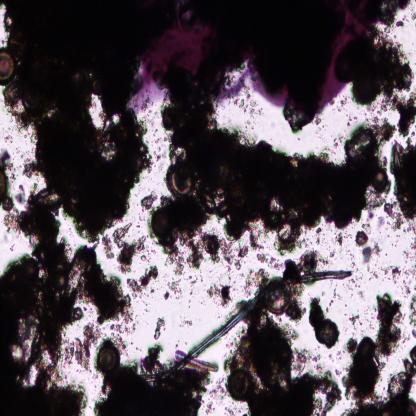Background material: (0, 0, 152, 237), (146, 120, 396, 264), (0, 190, 84, 416), (227, 316, 341, 416), (94, 348, 211, 415), (69, 249, 136, 328), (343, 347, 416, 414), (349, 33, 414, 107), (183, 231, 250, 272), (345, 338, 381, 403), (104, 224, 148, 274), (391, 137, 416, 224), (373, 292, 404, 358), (0, 143, 25, 221), (308, 296, 342, 350), (73, 322, 101, 373), (402, 234, 416, 323), (390, 92, 416, 138), (127, 261, 159, 298), (377, 0, 414, 30), (234, 87, 264, 124), (281, 251, 318, 280), (354, 223, 381, 262), (203, 278, 234, 310), (109, 313, 137, 345), (239, 270, 270, 298), (289, 282, 308, 321), (205, 378, 225, 414), (18, 153, 40, 182), (256, 252, 283, 272), (343, 274, 364, 294), (382, 264, 403, 283), (163, 280, 184, 298), (176, 314, 195, 332), (139, 190, 157, 209), (366, 262, 381, 284), (153, 316, 166, 341), (346, 309, 362, 328), (337, 95, 349, 115), (332, 233, 347, 248), (314, 226, 323, 245), (395, 16, 407, 28)
Diatom: (166, 161, 196, 197), (264, 278, 293, 315), (96, 340, 123, 376), (176, 352, 219, 374), (0, 47, 17, 87), (151, 209, 174, 237), (371, 169, 388, 193)
Microfibre: (176, 270, 352, 372)
Pen: (77, 0, 382, 131)
